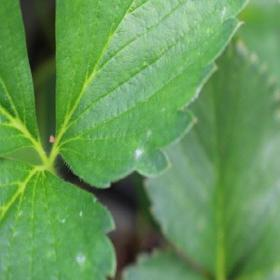Powdery Mildew Leaf: (54, 0, 251, 188), (0, 156, 116, 279)
